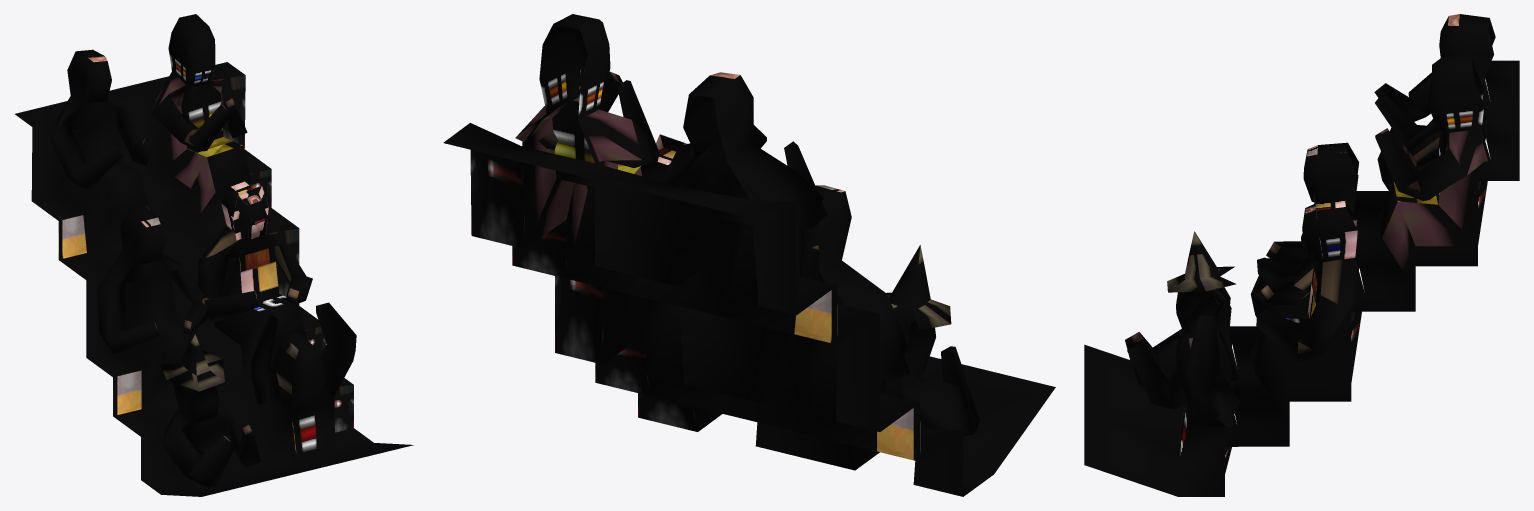
3 renders of one model, left to right at view 1: azimuth 30°, elevation 25°; view 2: azimuth 150°, elevation 25°; view 3: azimuth 270°, elevation 25°, orthographic. The views are drawn at different scales.
Parts seen in each view (by area): view 1: T1L9M004_20; view 2: T1L9M004_20; view 3: T1L9M004_20.
Part boxes in pixels (x1,y1,x2,y2): T1L9M004_20: (15,14,413,496); T1L9M004_20: (443,14,1055,496); T1L9M004_20: (1084,14,1519,496).
Bounding box in the file's own units: 0.9756 × 1.52 × 1.48.
